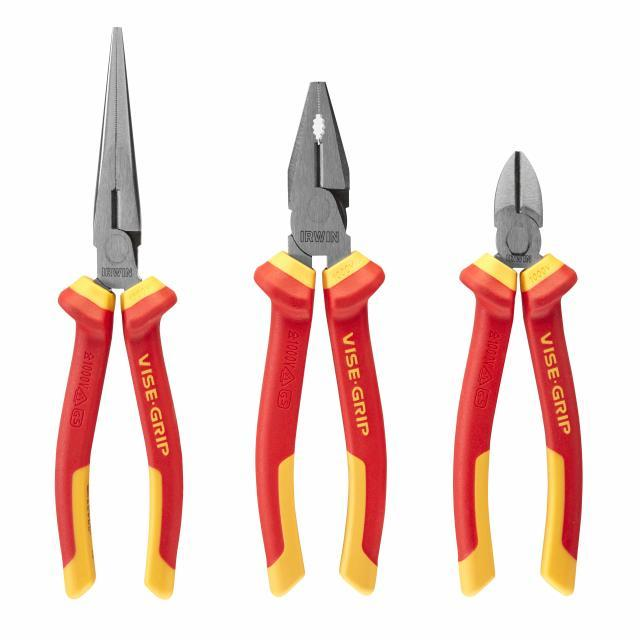pliers: (44, 20, 192, 607), (248, 72, 391, 608), (444, 144, 590, 602)
